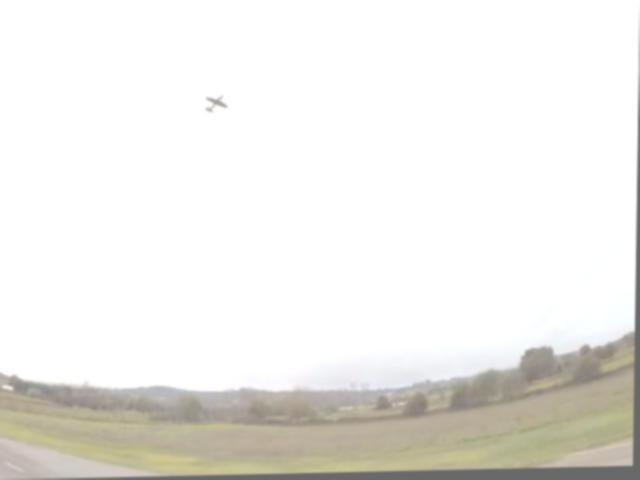uav: (198, 86, 232, 117)
